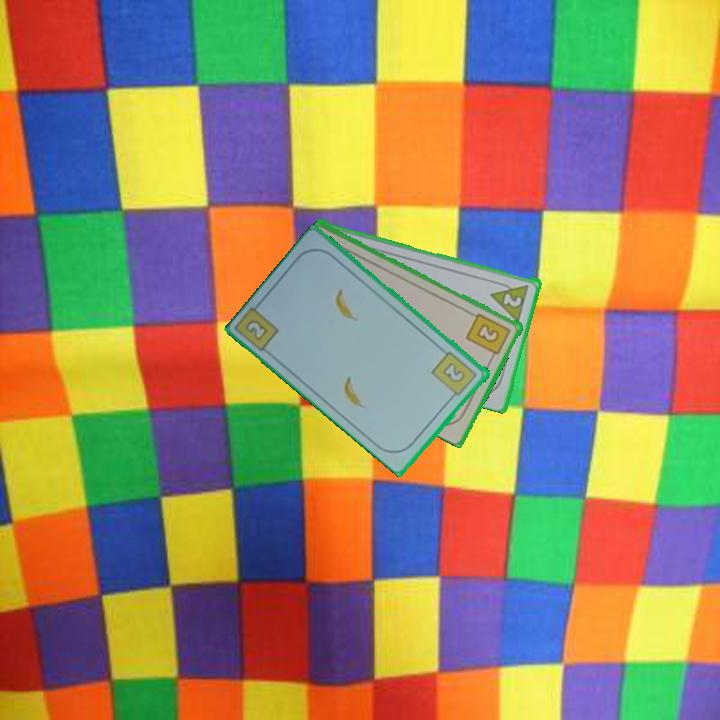2b: (428, 348, 481, 402), (463, 309, 514, 362), (242, 316, 271, 344)
2p: (500, 289, 525, 310)
